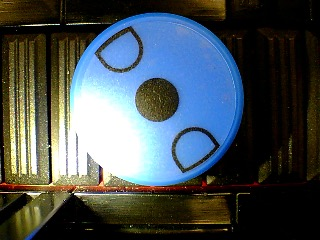BOHOMIPO2: (68, 12, 245, 187)
